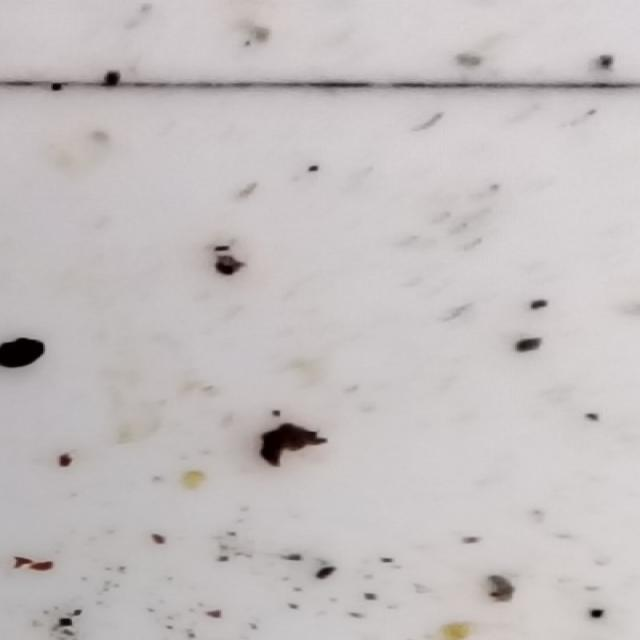varroa: (1, 340, 49, 371)
